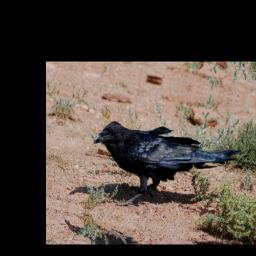Crow: (82, 111, 246, 232)
